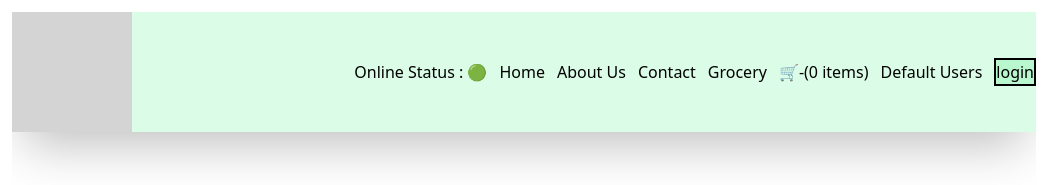
Should check The change of login button to logout when clicked
The width and height of the screenshot is (1048, 185).
Click the button at [1015, 72], box 994,58 -> 1036,86
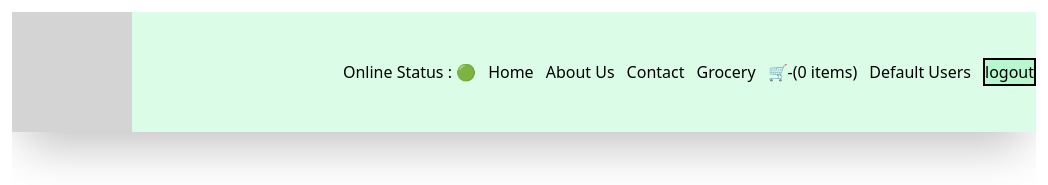
Expected: the link "logout" is shown, 985,61 -> 1034,83
